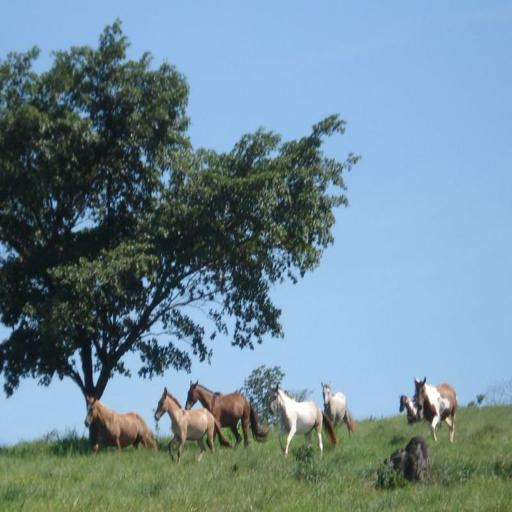horse: (152, 383, 234, 467), (182, 376, 272, 452), (264, 383, 338, 458), (82, 395, 156, 457), (413, 375, 459, 443), (320, 381, 358, 438), (396, 392, 422, 426)
